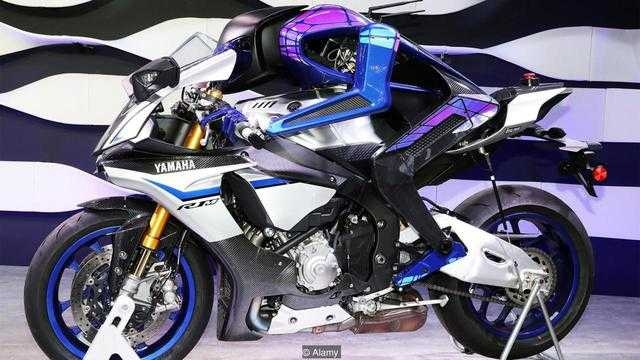motorcycle: (27, 27, 606, 357)
